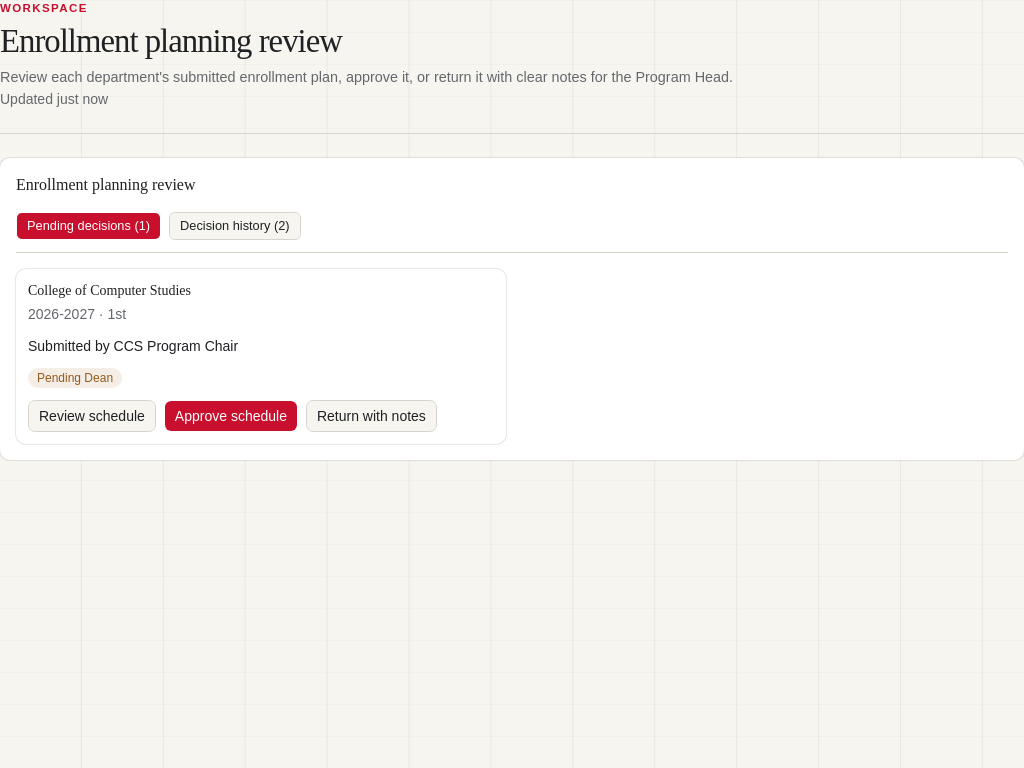
Scenario: ScheduleDecisionWorkspace › requires an explicit confirmation before a dean transition
Step 1. Click the button "Approve schedule" → (231, 416), box [164,400,298,432]
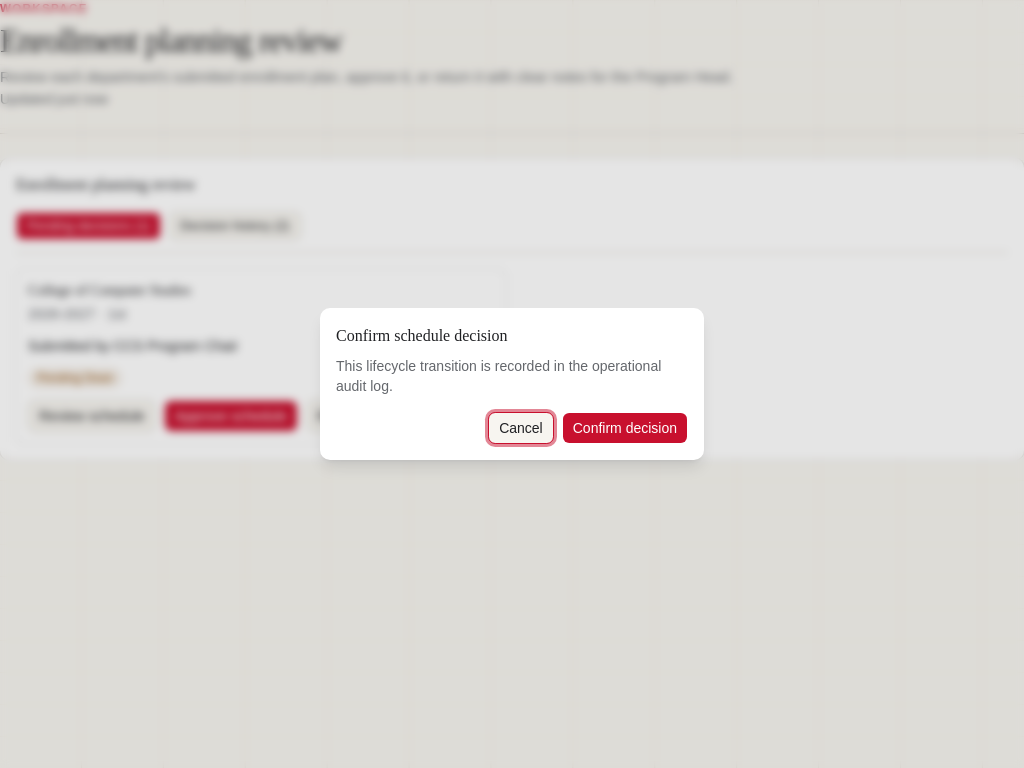
Now the dialog is shown, box [320,308,704,460]
